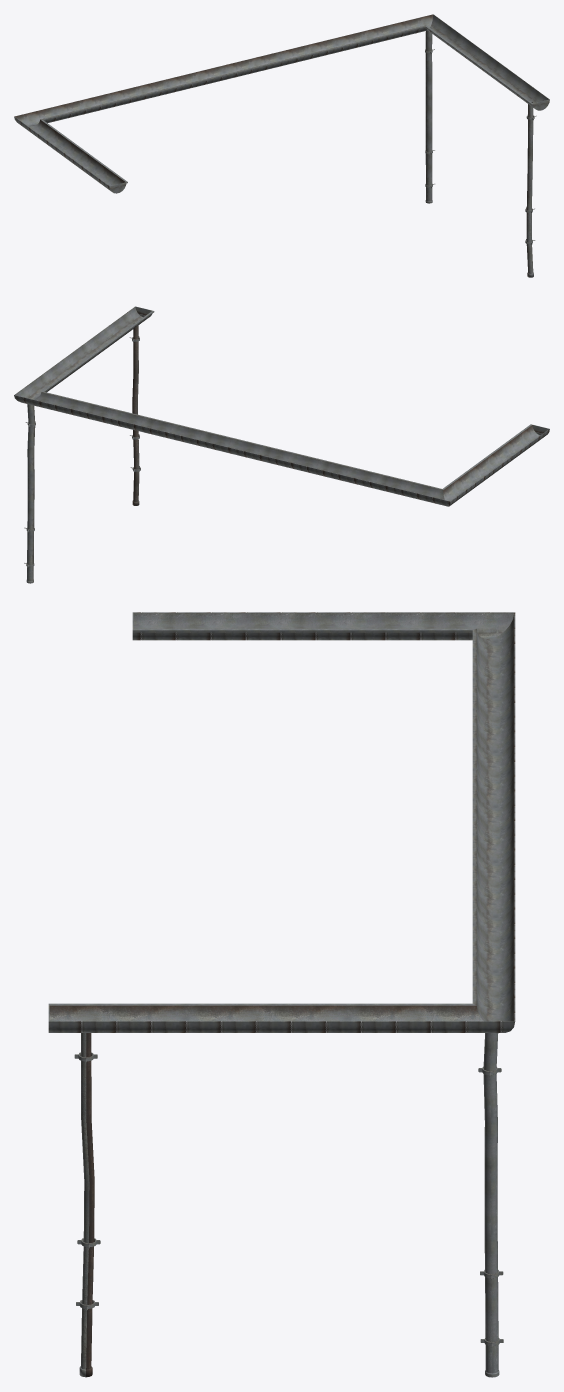
File: AVP6_Grondaie.FBX
3 renders of one model, top to bottom at view 1: azimuth 30°, elevation 25°; view 2: azimuth 150°, elevation 25°; view 3: azimuth 270°, elevation 25°, orthographic. The views are drawn at different scales.
Parts seen in each view (by area): view 1: Line048, Cylinder001, Line093; view 2: Line048, Cylinder001, Line093; view 3: Line048, Cylinder001, Line093.
Part boxes in pixels (x1,y1,x2,y2): Line048: (14,14,549,193); Cylinder001: (425,27,432,203); Line093: (526,102,533,277); Line048: (14,306,549,506); Cylinder001: (26,404,35,583); Line093: (132,323,139,505); Line048: (48,612,515,1032); Cylinder001: (483,1033,499,1377); Line093: (79,1033,94,1377).
Bounding box in the file's own units: 739 × 305 × 356.
